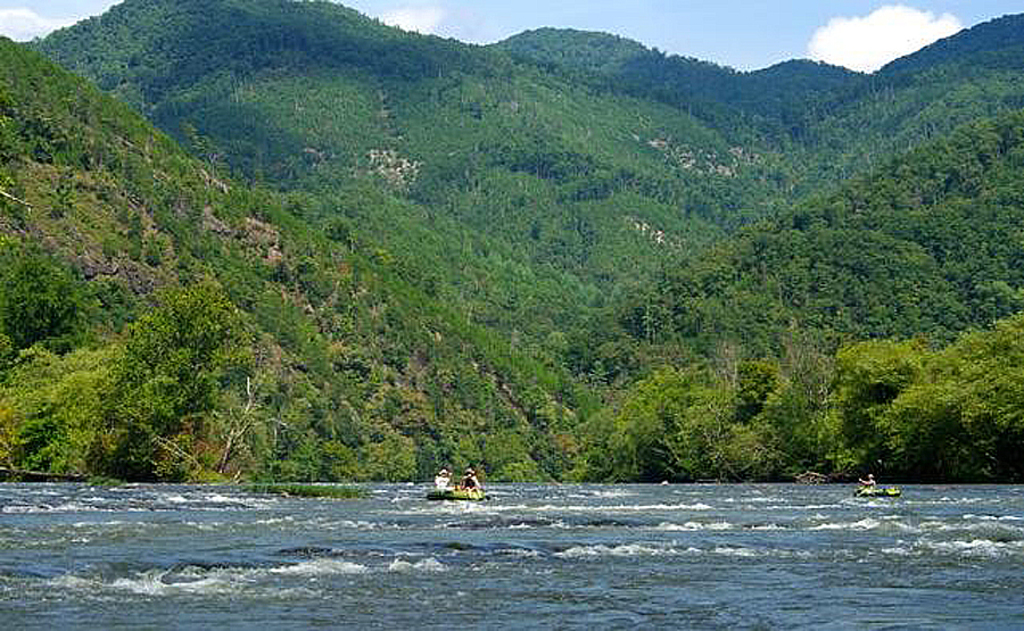Tree: (0, 0, 1022, 488), (826, 303, 1022, 474)
